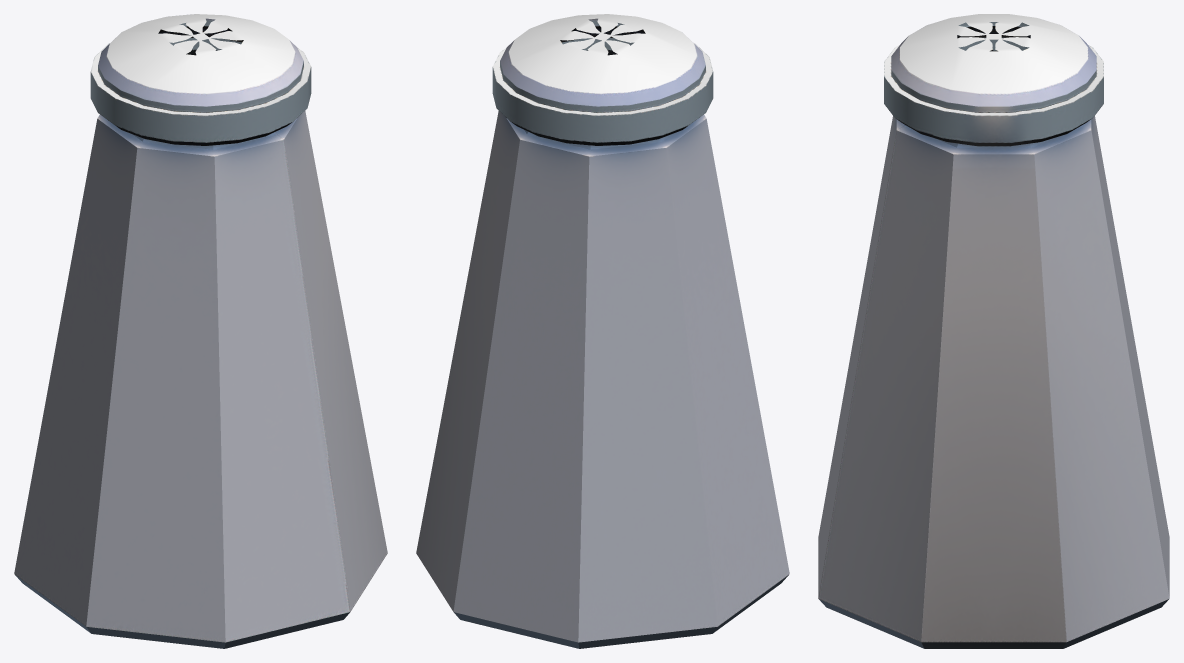
File: salt.obj
3 views of the same model, side by side, from view 1: azimuth 30°, elevation 25°; view 2: azimuth 150°, elevation 25°; view 3: azimuth 270°, elevation 25° (orthographic).
Visible parts, largest first — view 1: salt; view 2: salt; view 3: salt.
Boxes of the visible parts, x1=… form: salt: x1=14, y1=14, x2=387, y2=648; salt: x1=416, y1=14, x2=789, y2=648; salt: x1=818, y1=14, x2=1169, y2=648.
Bounding box in the file's own units: 0.0539 × 0.0916 × 0.0539.
